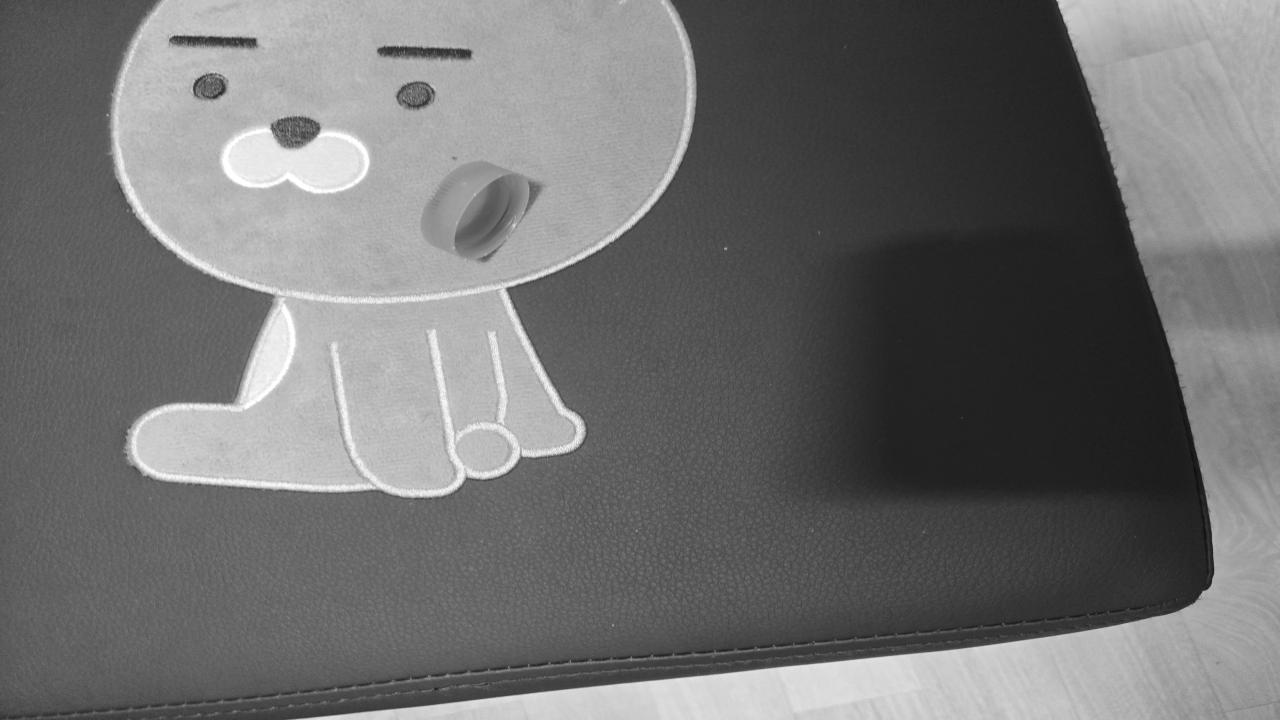bottle_cap: (412, 157, 539, 267)
